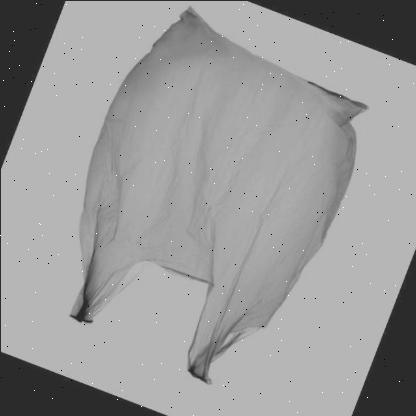Others: (69, 3, 368, 387)
